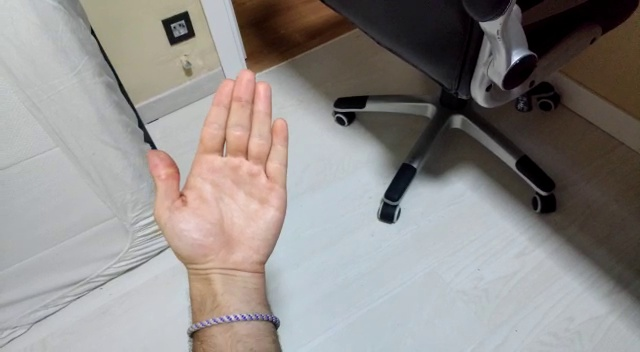Palm: (144, 67, 293, 281)
